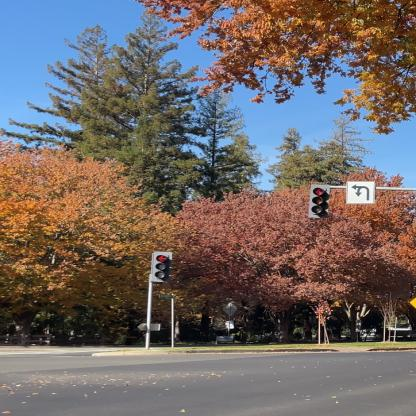left-red: (308, 183, 331, 220), (150, 250, 174, 284)
